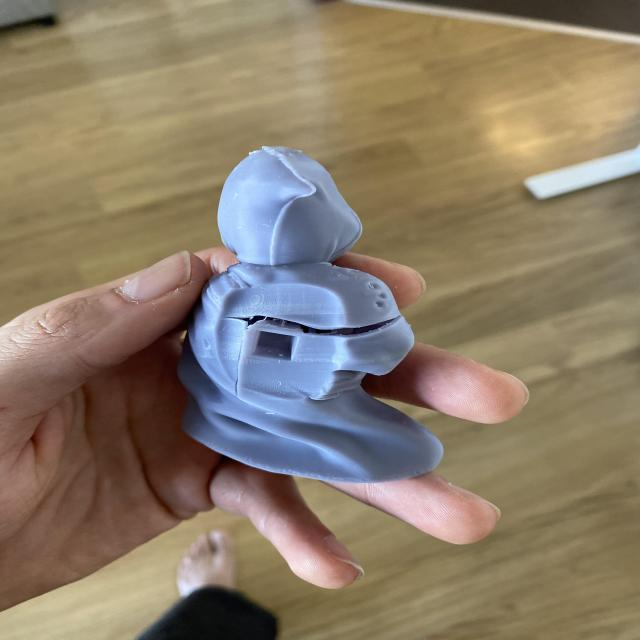Warping: (229, 297, 416, 362)
